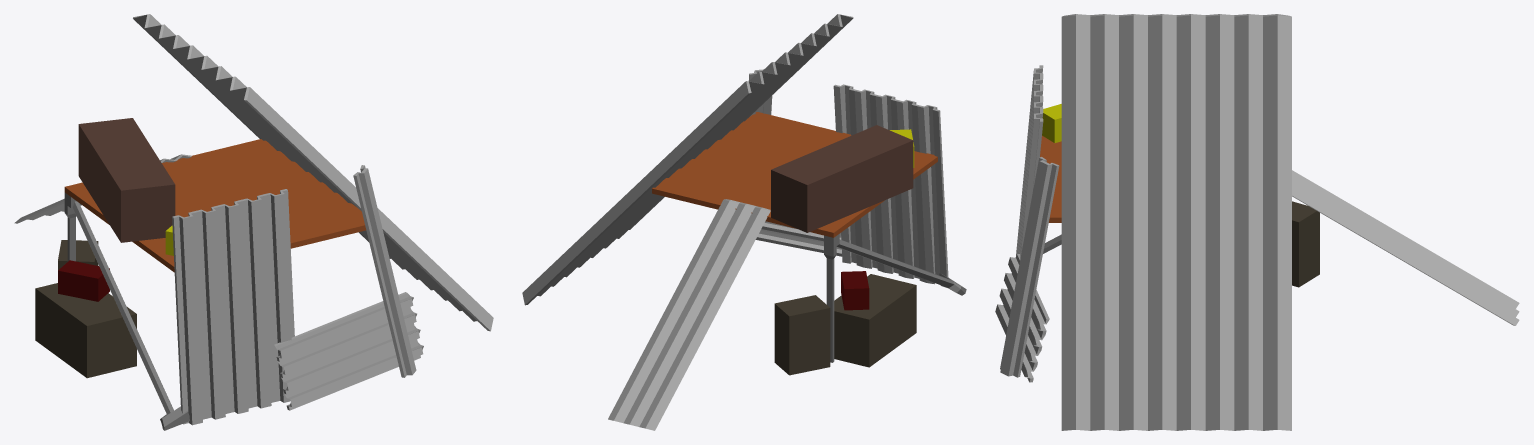
File: WatchTower 1.fbx
3 renders of one model, left to right at view 1: azimuth 30°, elevation 25°; view 2: azimuth 150°, elevation 25°; view 3: azimuth 270°, elevation 25°, orthographic. The views are drawn at different scales.
Visible parts, largest first — view 1: Watchtower; view 2: Watchtower; view 3: Watchtower.
Part boxes in pixels (left/top/right/bottom): Watchtower: left=14, top=14, right=493, bottom=430; Watchtower: left=522, top=14, right=966, bottom=430; Watchtower: left=995, top=14, right=1519, bottom=430.
Bounding box in the file's own units: 1477 × 1141 × 1799.
